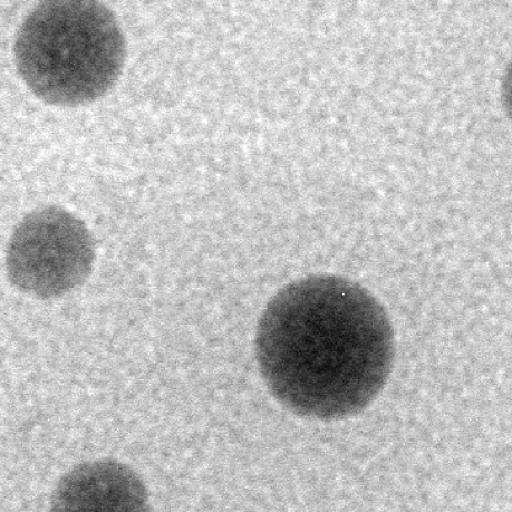Nanoparticles: (255, 270, 394, 422), (13, 0, 127, 109), (4, 205, 102, 298), (52, 453, 148, 512)
